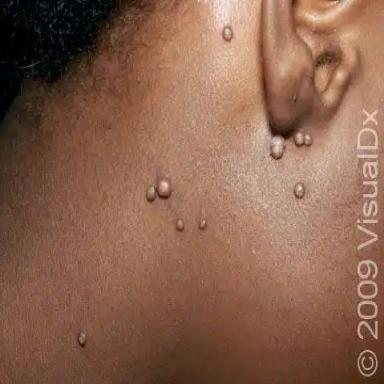Molluscum-Contagiosum: (271, 136, 285, 159), (157, 178, 172, 198), (294, 132, 312, 146), (146, 185, 156, 202), (294, 183, 305, 198), (223, 26, 233, 41), (78, 332, 87, 347), (175, 219, 185, 232), (199, 218, 206, 230)
